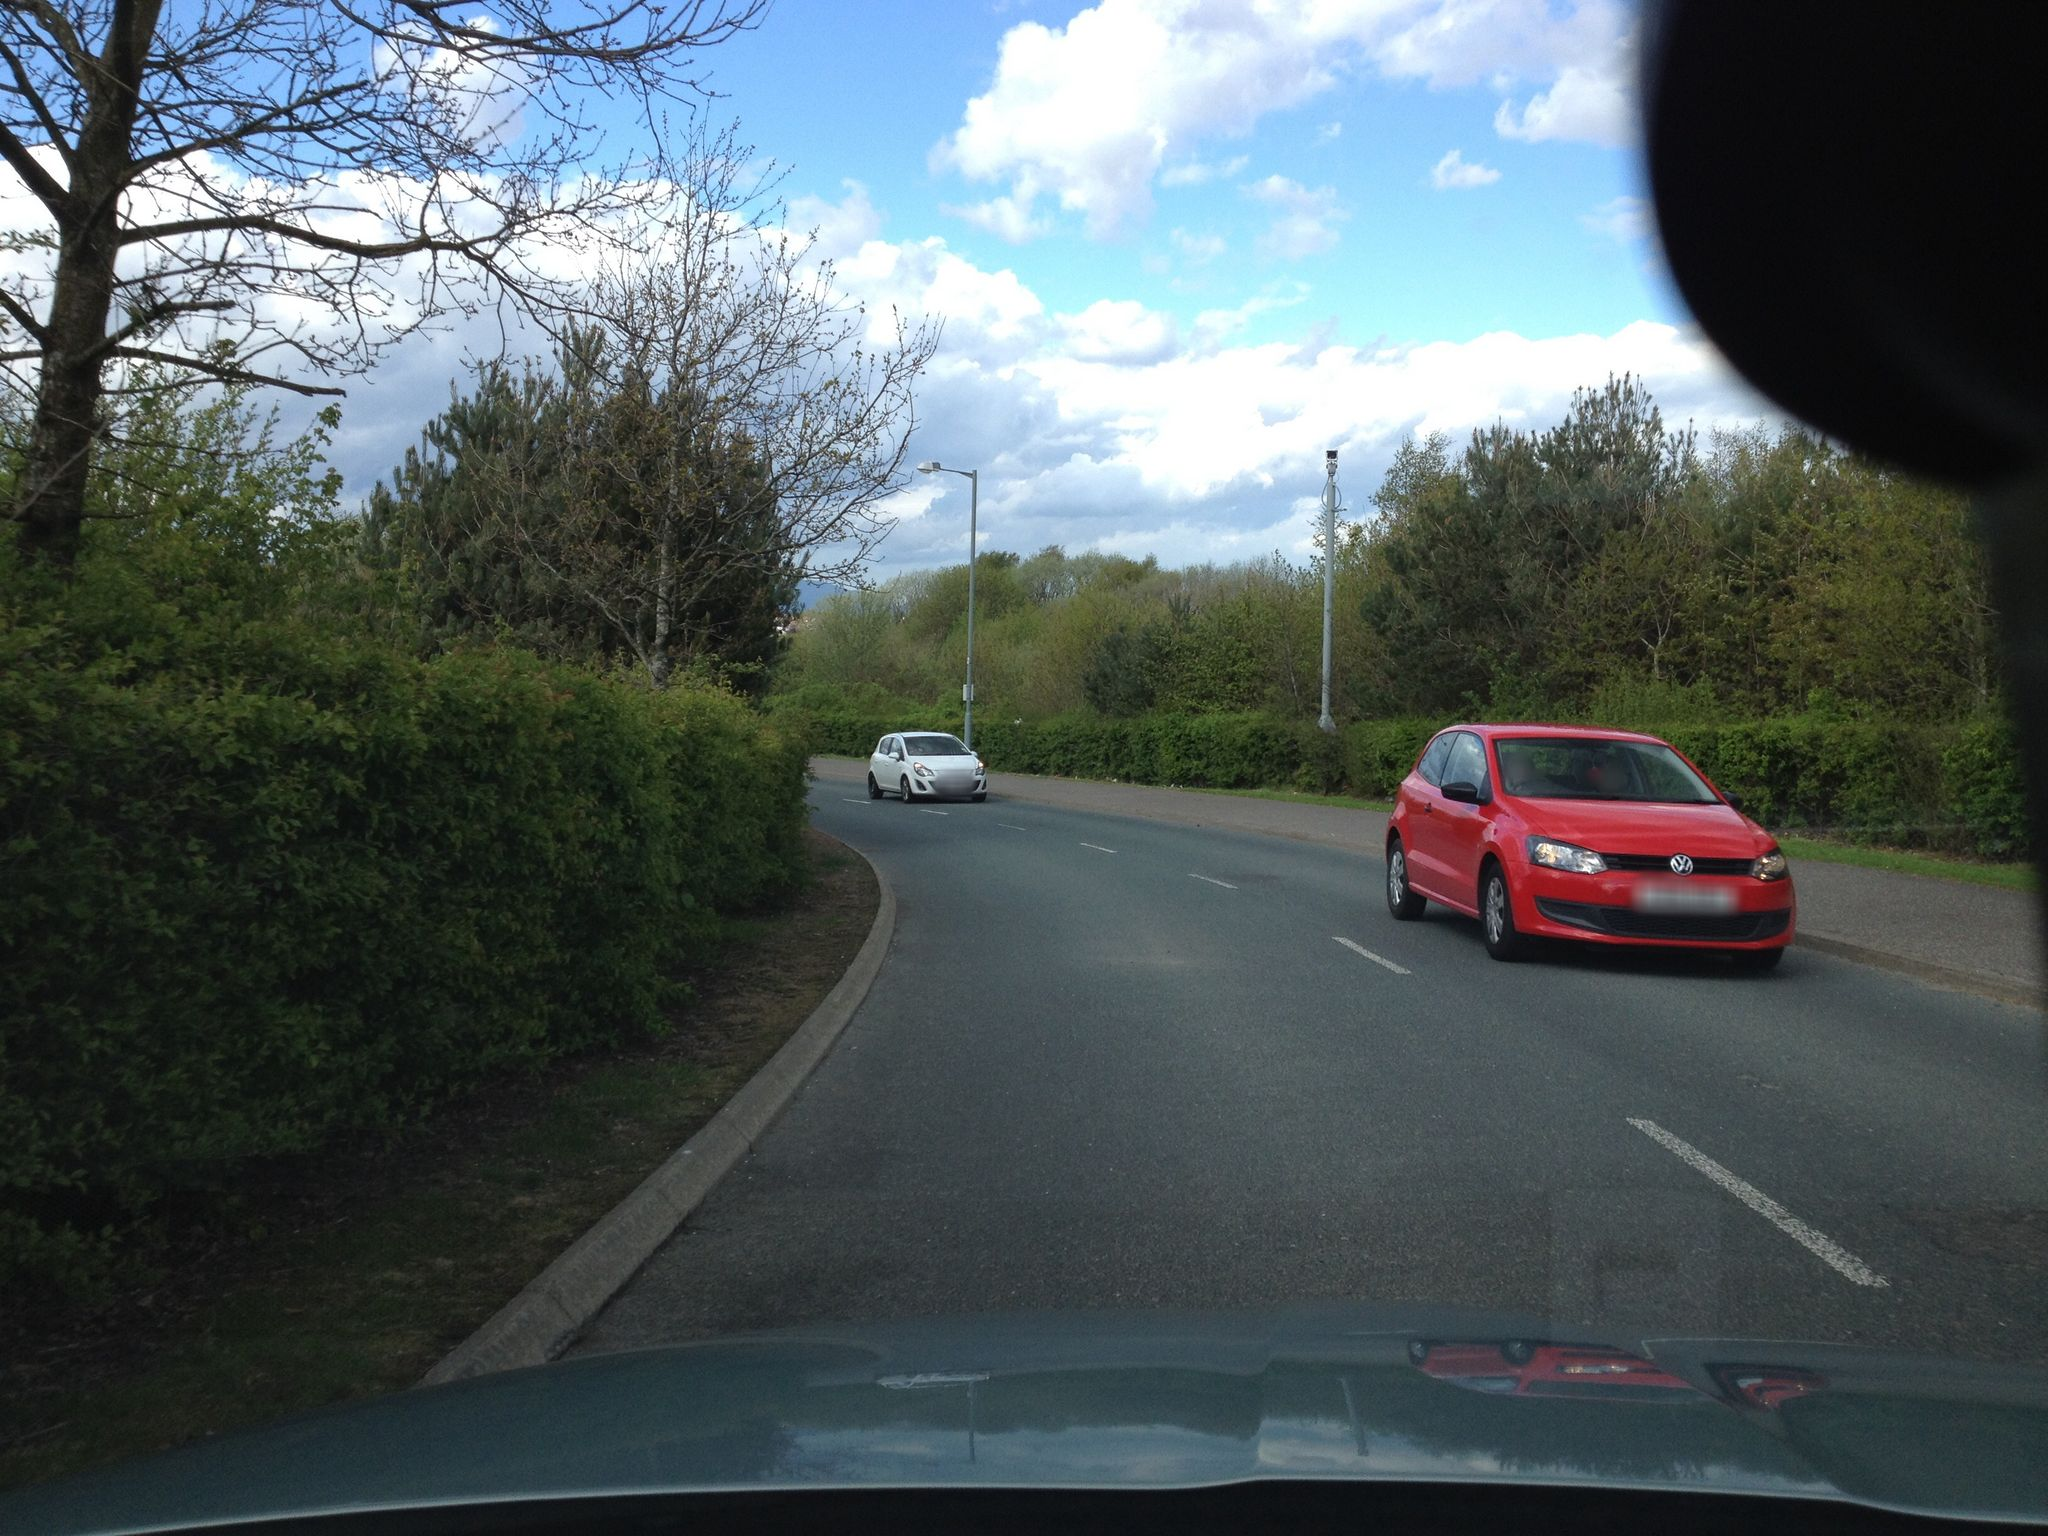car: (1384, 721, 1800, 966), (864, 731, 989, 803)
